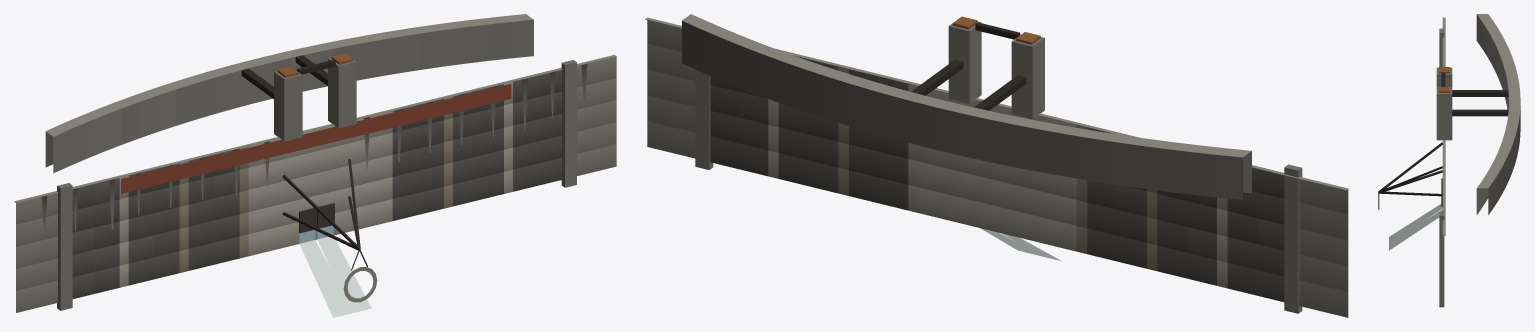
File: landmark_dam_mid.glb
The picture shows the model from 3 angles, left to right: view 1: azimuth 30°, elevation 25°; view 2: azimuth 150°, elevation 25°; view 3: azimuth 270°, elevation 25°; orthographic projection. The views are drawn at different scales.
Parts seen in each view (by area): view 1: landmark_dam_mid; view 2: landmark_dam_mid; view 3: landmark_dam_mid.
Part boxes in pixels (x1,y1,x2,y2): landmark_dam_mid: (14, 14, 616, 317); landmark_dam_mid: (645, 14, 1348, 317); landmark_dam_mid: (1378, 14, 1520, 307).
Size of the model in its own units: 400 by 141 by 111.
